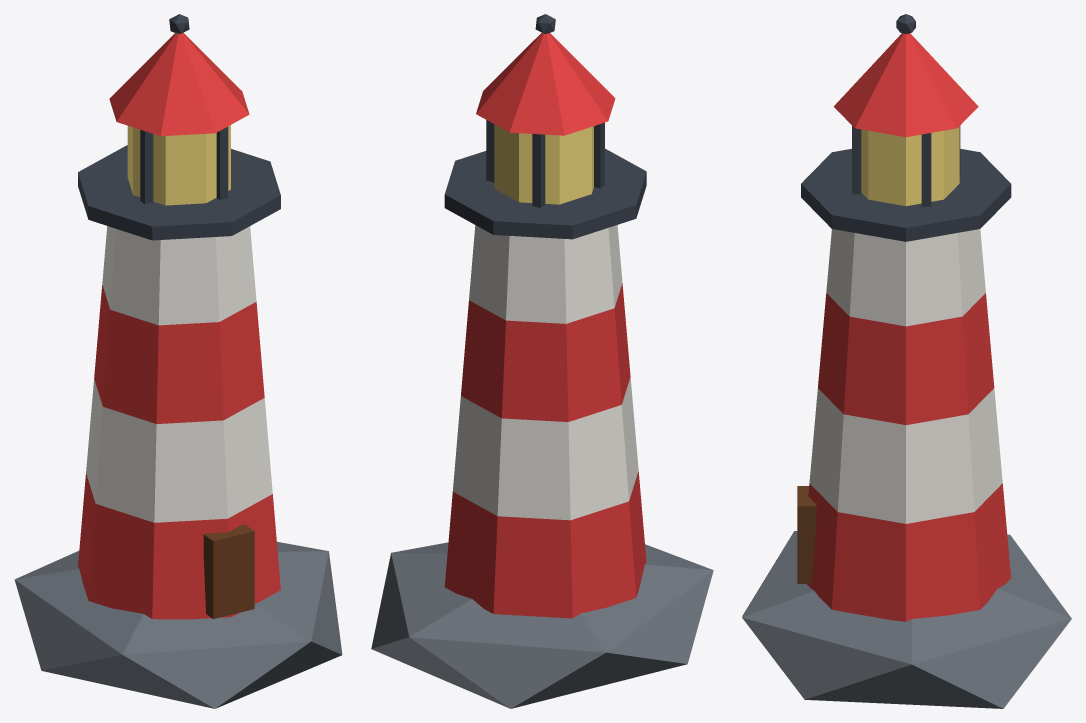
File: Lighthouse.fbx
The picture shows the model from 3 angles, left to right: view 1: azimuth 30°, elevation 25°; view 2: azimuth 150°, elevation 25°; view 3: azimuth 270°, elevation 25°; orthographic projection.
Visible parts, largest first — view 1: Lighthouse; view 2: Lighthouse; view 3: Lighthouse.
Part boxes in pixels (box(x1,y1,x2,y2)): Lighthouse: box(14, 14, 342, 708); Lighthouse: box(371, 14, 713, 708); Lighthouse: box(742, 14, 1071, 708).
Bounding box in the file's own units: 5.31 × 11.57 × 5.18.
1 material, 1 textured.
